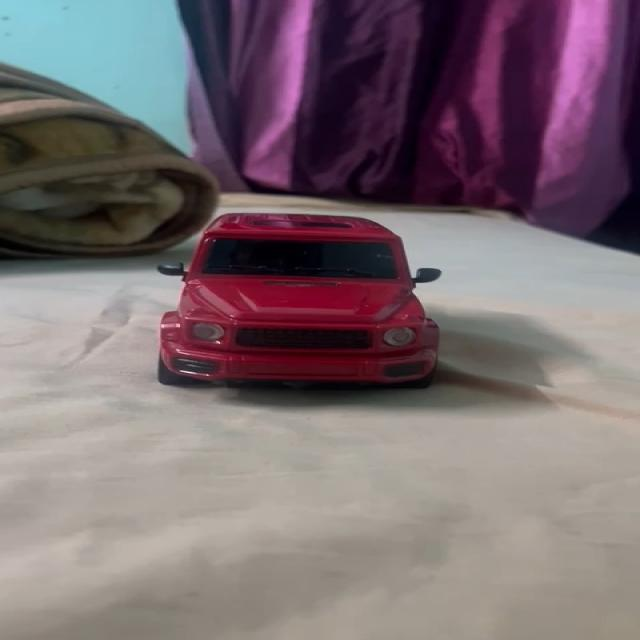light_vehicle: (150, 211, 448, 383)
